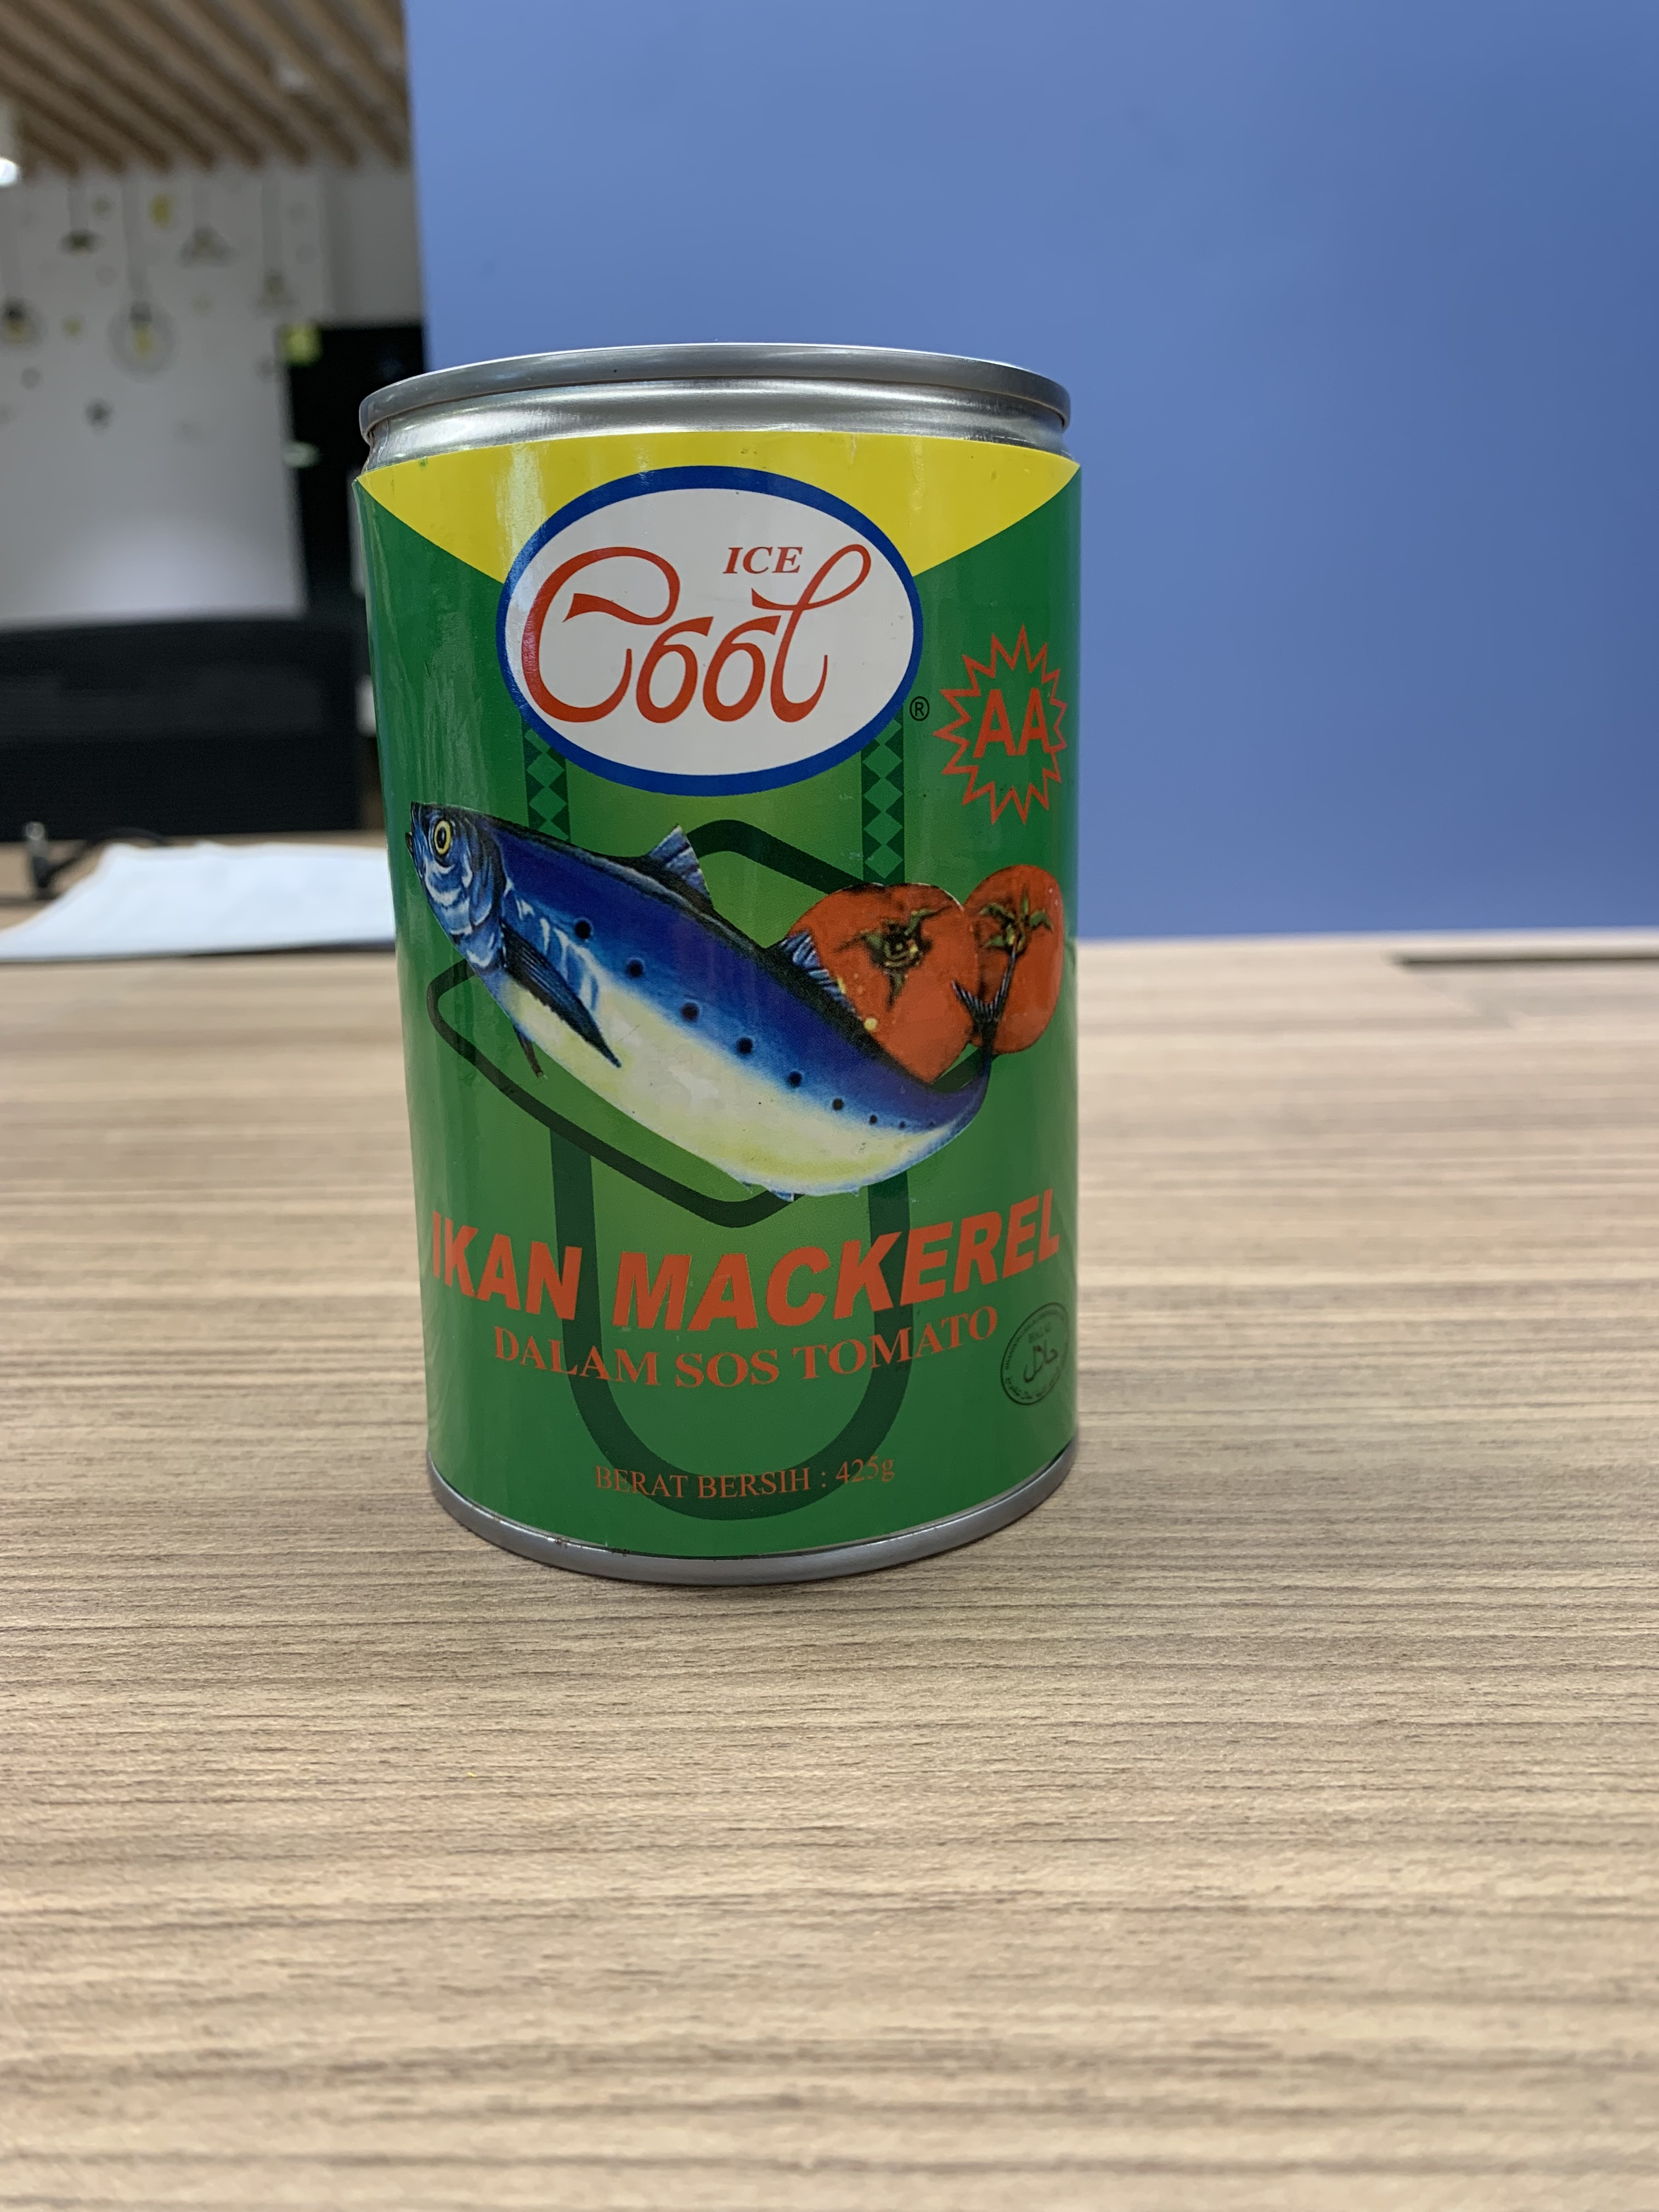sardines_400g-499g: (410, 430, 1072, 1541)
